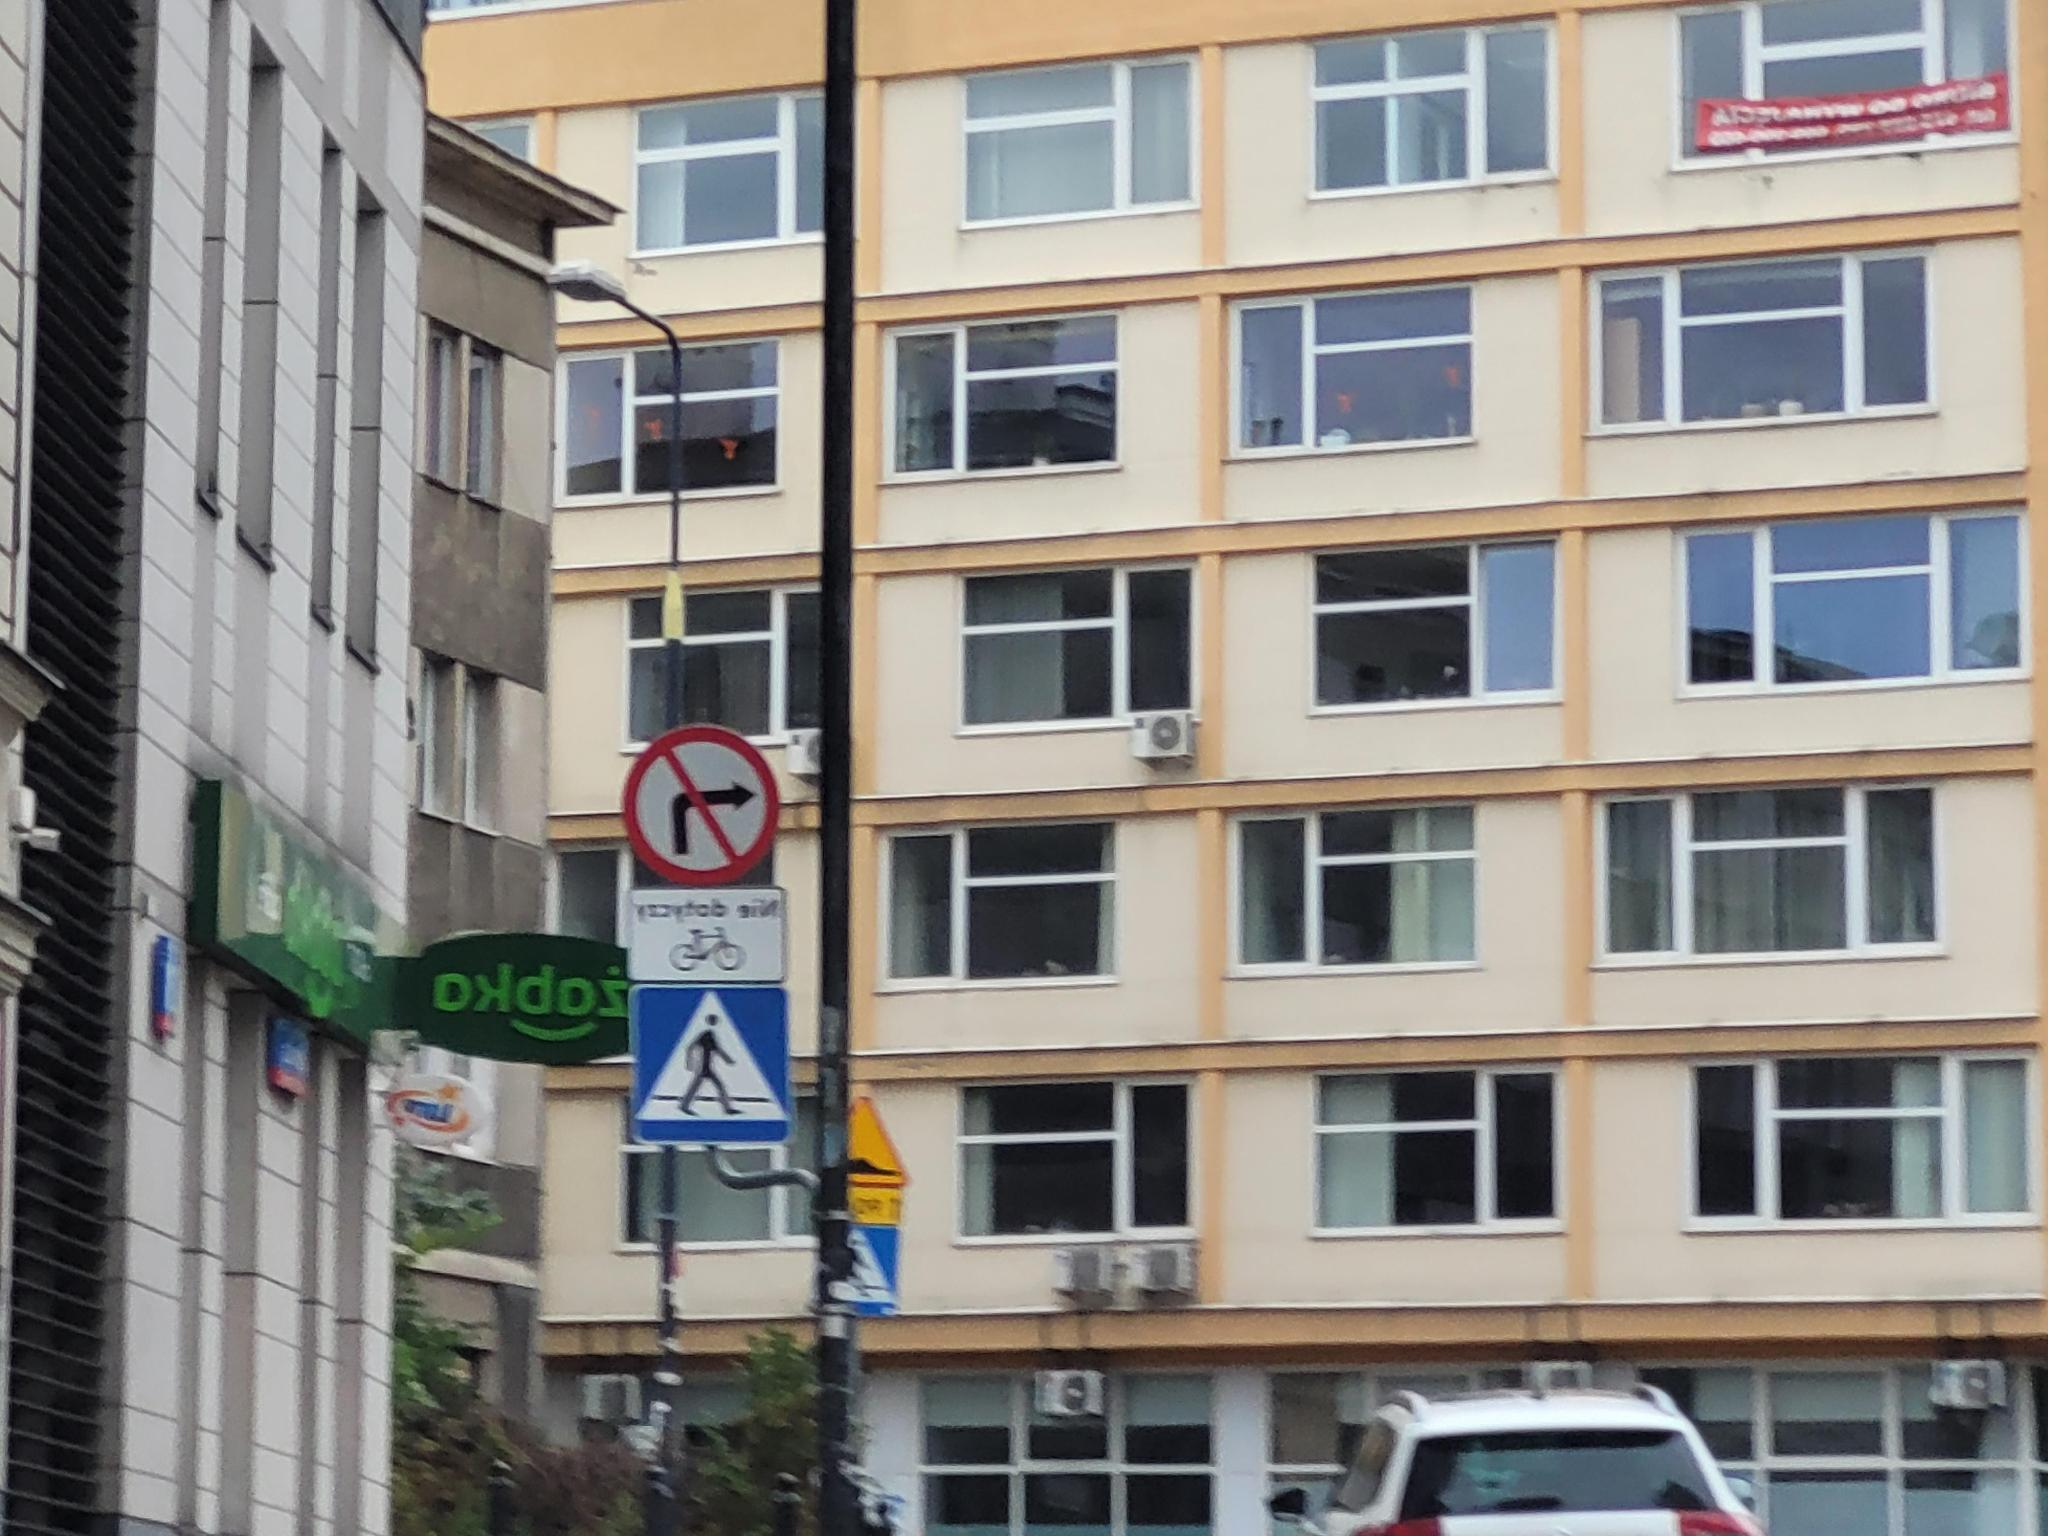information: (637, 987, 790, 1142), (848, 1226, 900, 1313)
other: (629, 891, 782, 979), (850, 1189, 903, 1225)
prohibitory: (621, 721, 782, 886)
warning: (847, 1094, 908, 1184)
